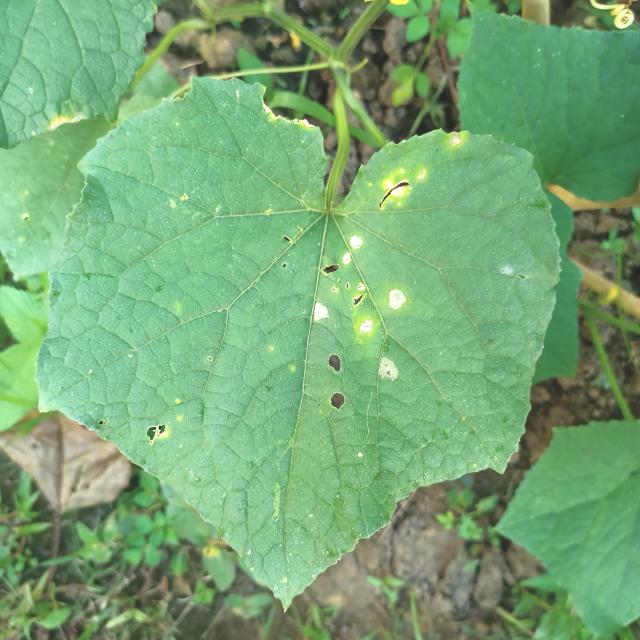disease_cucumber: (307, 223, 412, 390)
